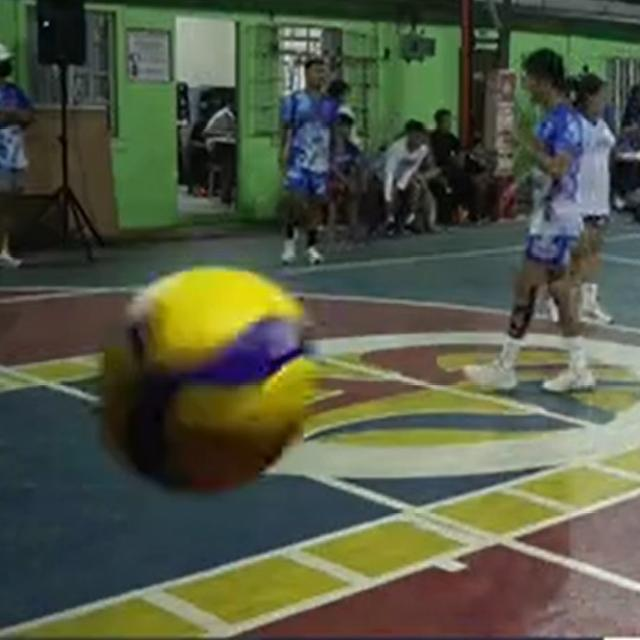volleyball: (102, 265, 313, 488)
